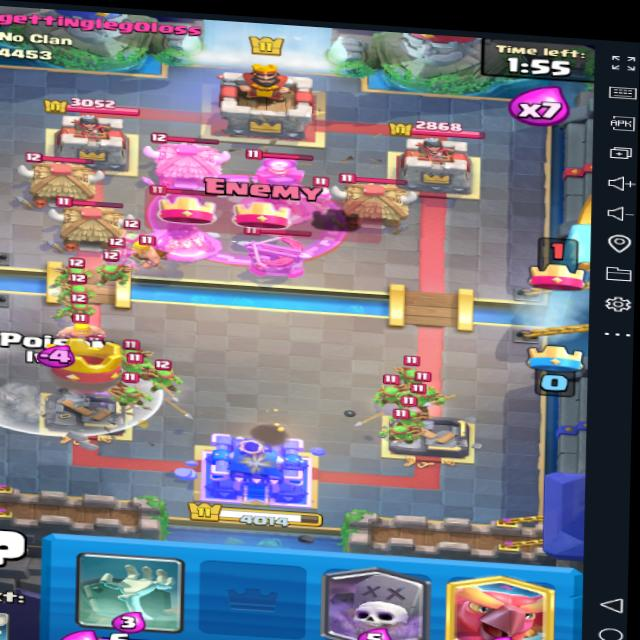barbarian: (55, 315, 113, 351), (122, 234, 172, 266)
goblin-hut: (45, 191, 138, 254), (140, 128, 229, 192), (334, 170, 415, 232), (22, 152, 107, 209)
inferno-tower: (139, 179, 236, 272), (240, 146, 313, 223)
rage: (153, 166, 346, 267)
spear-goblin: (387, 392, 429, 434), (142, 360, 185, 393), (115, 342, 156, 376), (383, 413, 419, 450), (116, 379, 152, 413), (393, 356, 428, 390), (373, 381, 411, 409), (89, 258, 124, 284), (416, 376, 449, 403), (61, 293, 91, 322), (67, 280, 100, 305), (64, 251, 91, 279)
x-bow: (229, 216, 318, 278)
